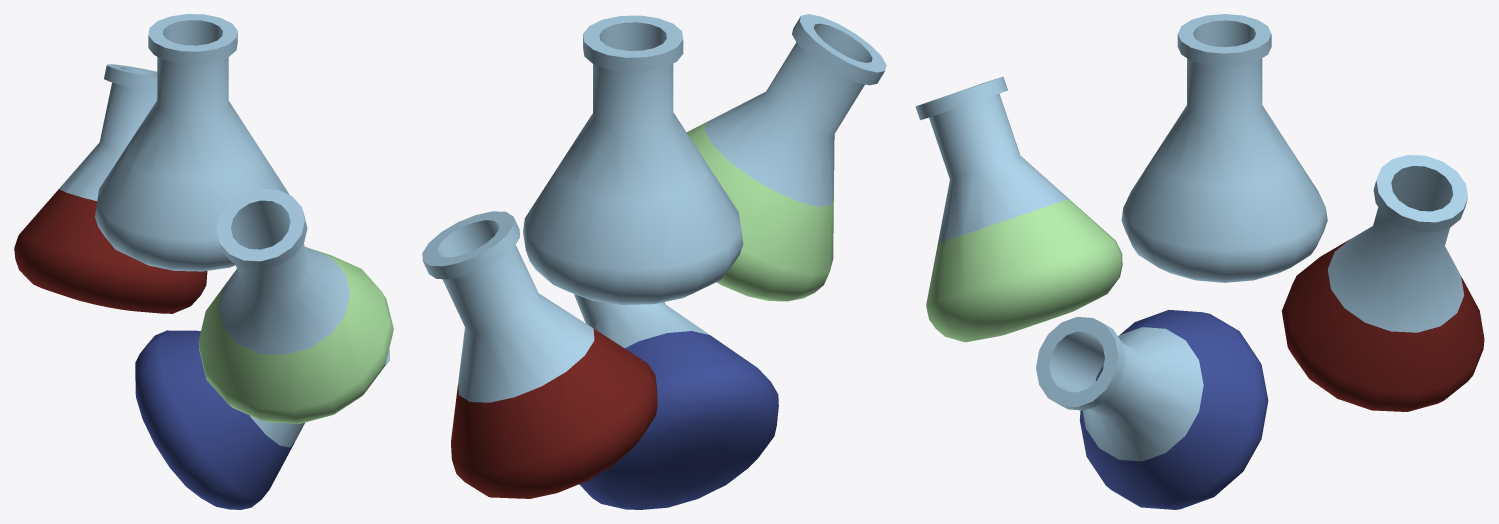
The model's file is halvanic_scene_model_2.gltf.
3 views of the same model, side by side, from view 1: azimuth 30°, elevation 25°; view 2: azimuth 150°, elevation 25°; view 3: azimuth 270°, elevation 25° (orthographic). The views are drawn at different scales.
Parts seen in each view (by area): view 1: Куб.004; view 2: Куб.004; view 3: Куб.004.
Part boxes in pixels (bbox=[...]): Куб.004: bbox=[14, 14, 393, 509]; Куб.004: bbox=[422, 14, 886, 509]; Куб.004: bbox=[915, 14, 1484, 509].
Bounding box in the file's own units: 10.48 × 19.85 × 22.05.
